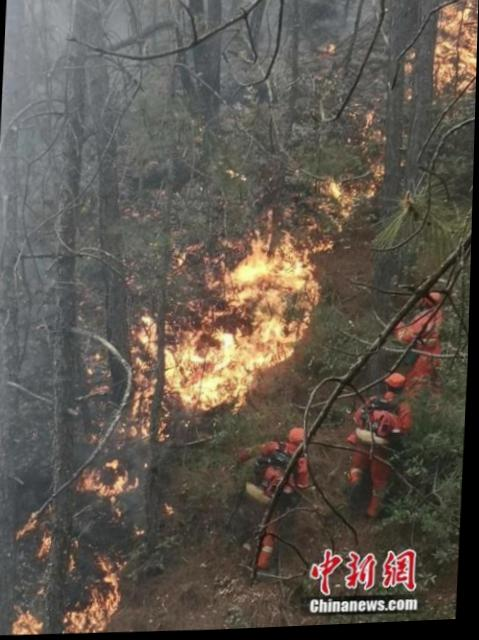fire: (103, 170, 376, 425), (0, 581, 122, 634), (428, 3, 475, 90), (80, 460, 139, 499)
